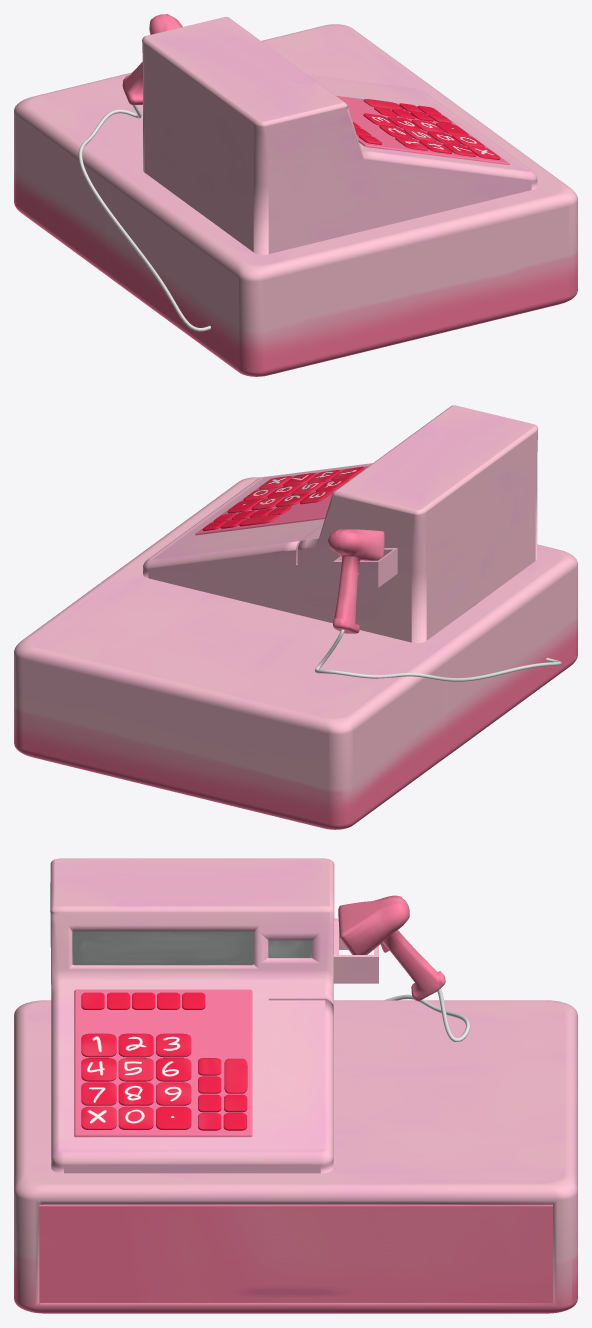
Rendered from cash register.fbx.
3 views of the same model, one above another, from view 1: azimuth 30°, elevation 25°; view 2: azimuth 150°, elevation 25°; view 3: azimuth 270°, elevation 25° (orthographic). The views are drawn at different scales.
Visible parts, largest first — view 1: Body, buttons, NurbsPath, scanner; view 2: Body, buttons, scanner, NurbsPath; view 3: Body, Drawer, buttons, scanner, NurbsPath.
Boxes of the visible parts, x1,y1,x2,y2 form: Body: (14,17,577,376); buttons: (353,99,500,159); NurbsPath: (78,105,210,331); scanner: (122,14,182,104); Body: (14,405,577,829); buttons: (202,466,364,530); scanner: (327,529,384,633); NurbsPath: (315,629,561,681); Body: (14,858,577,1313); Drawer: (39,1204,552,1302); buttons: (81,992,247,1130); scanner: (338,895,445,1001); NurbsPath: (384,988,470,1041).
Bounding box in the file's own units: 100 × 64.39 × 116.
4 materials, 4 textured.
